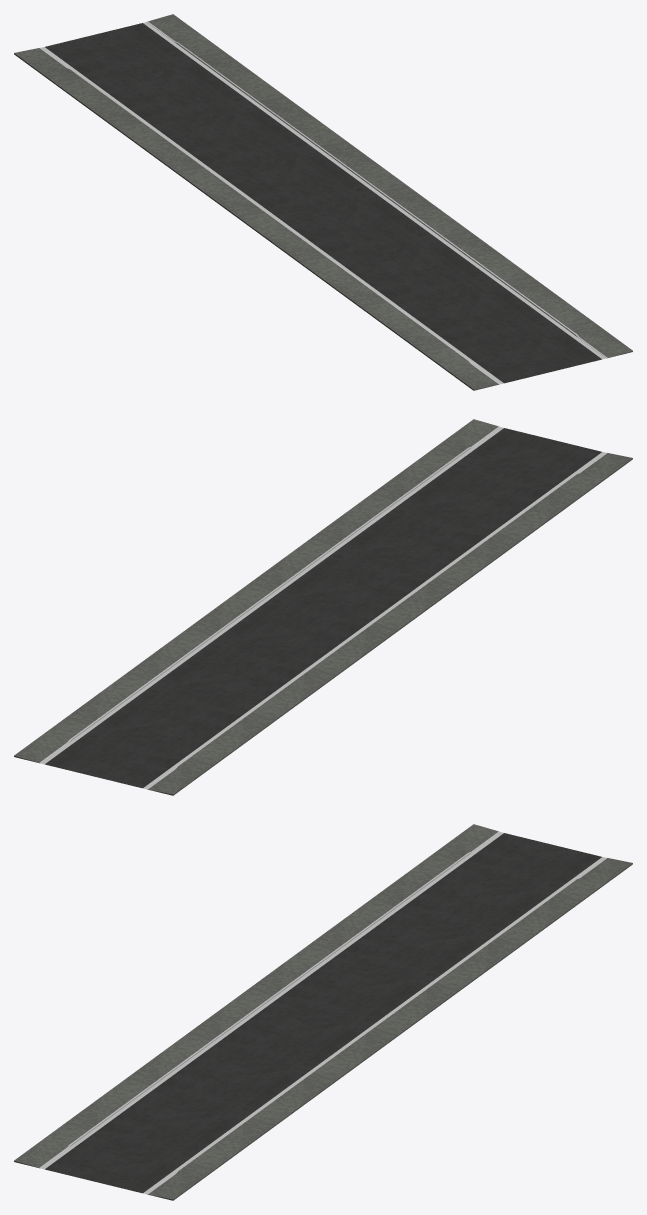
Rendered from jcRoad12mA.fbx.
3 views of the same model, one above another, from view 1: azimuth 30°, elevation 25°; view 2: azimuth 150°, elevation 25°; view 3: azimuth 330°, elevation 25° (orthographic).
Visible parts, largest first — view 1: jcRoad12mA; view 2: jcRoad12mA; view 3: jcRoad12mA.
Boxes of the visible parts, box(x1,y1,x2,y2) form: jcRoad12mA: box(14, 14, 632, 390); jcRoad12mA: box(14, 419, 632, 795); jcRoad12mA: box(14, 824, 632, 1200).
Bounding box in the file's own units: 1200 × 10 × 6000.
